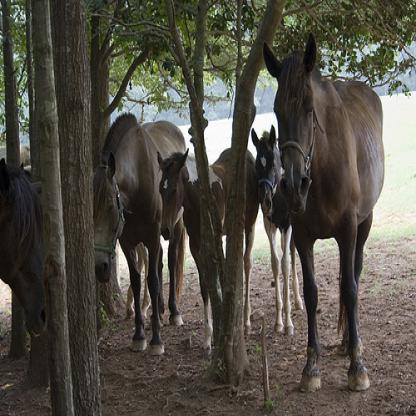horse: (261, 34, 386, 391), (90, 112, 187, 356), (156, 145, 260, 356), (250, 126, 303, 337), (0, 156, 48, 338)
